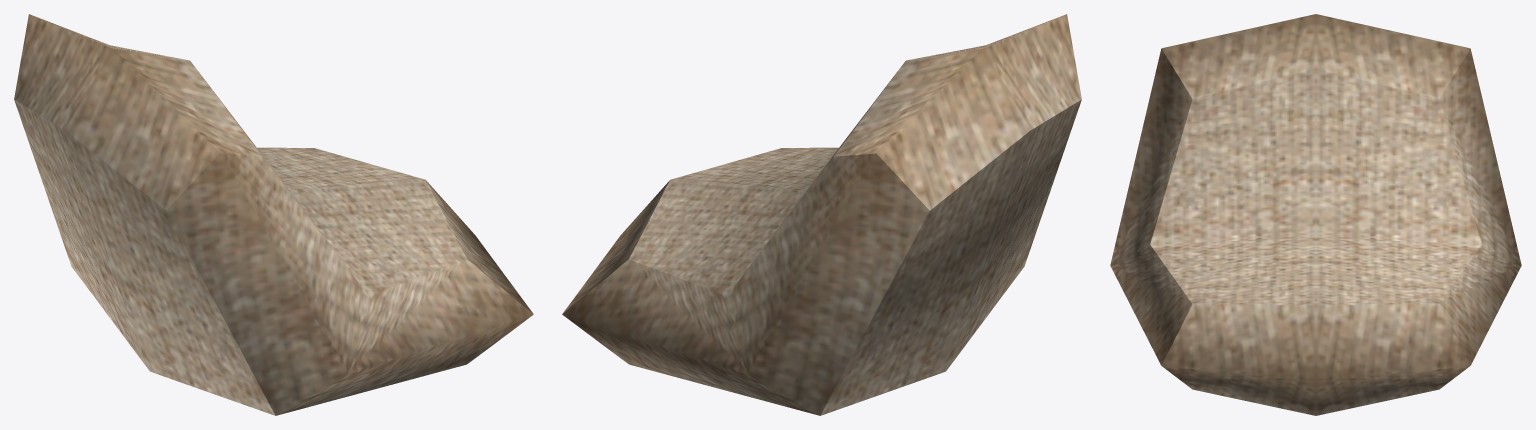
Rendered from FH_Env_obj_05.FBX.
The picture shows the model from 3 angles, left to right: view 1: azimuth 30°, elevation 25°; view 2: azimuth 150°, elevation 25°; view 3: azimuth 270°, elevation 25°; orthographic projection. The views are drawn at different scales.
Parts seen in each view (by area): view 1: Object149; view 2: Object149; view 3: Object149.
Part boxes in pixels (x1,y1,x2,y2): Object149: (14, 14, 533, 415); Object149: (562, 14, 1081, 415); Object149: (1110, 14, 1521, 415).
Size of the model in its own units: 1.81 by 1.45 by 1.94.
